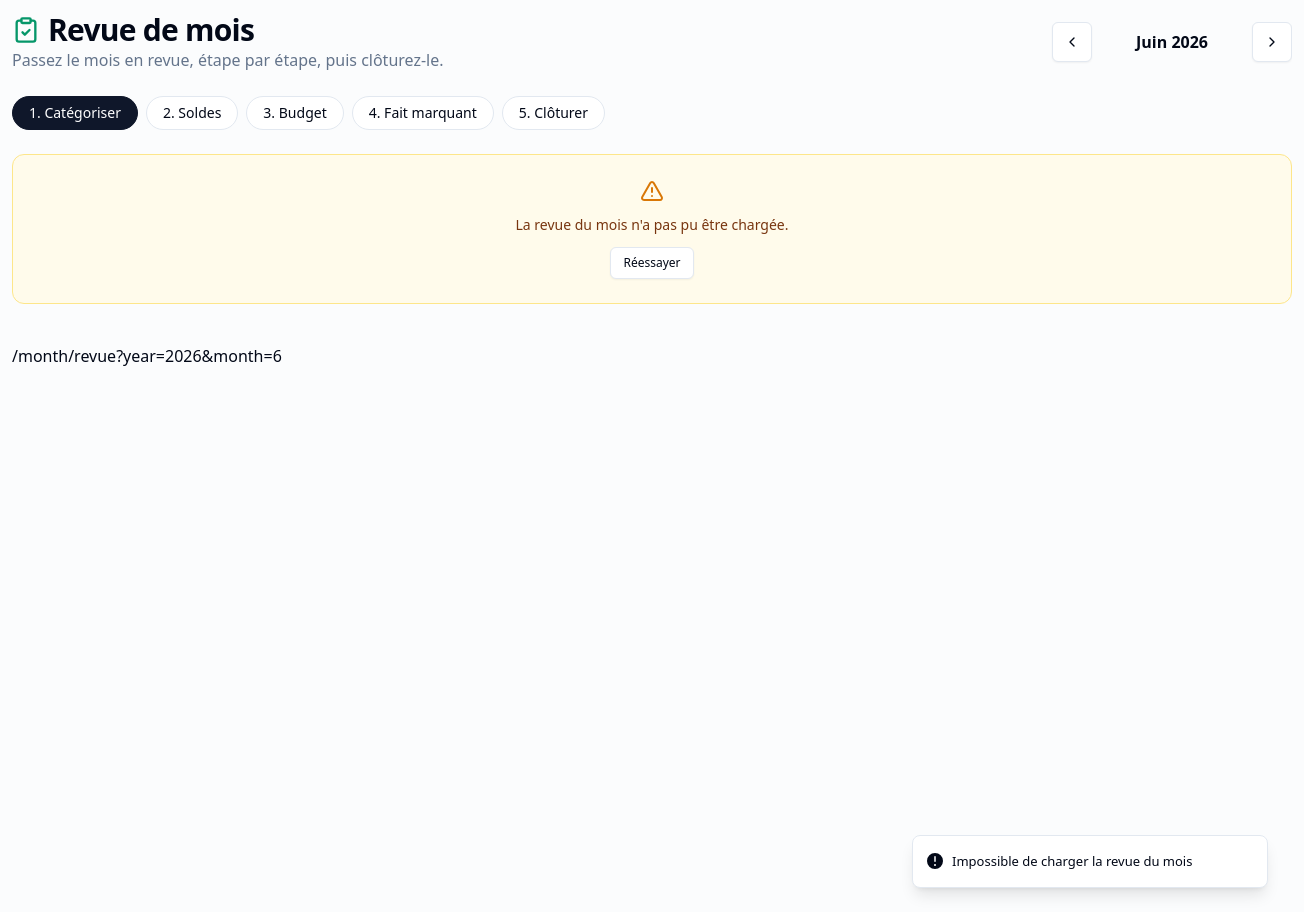
Test case: MonthReview : chargement › échec : ErrorState (pas un mois vide) et « Réessayer » recharge
Check: the text "La revue du mois n'a pas pu être chargée." is shown, box [516,215,788,235]
Check: the text "Impossible de charger la revue du mois" is shown, box [952,852,1192,871]
Click the button "Réessayer" at coordinates (652, 263), box [610,247,694,279]
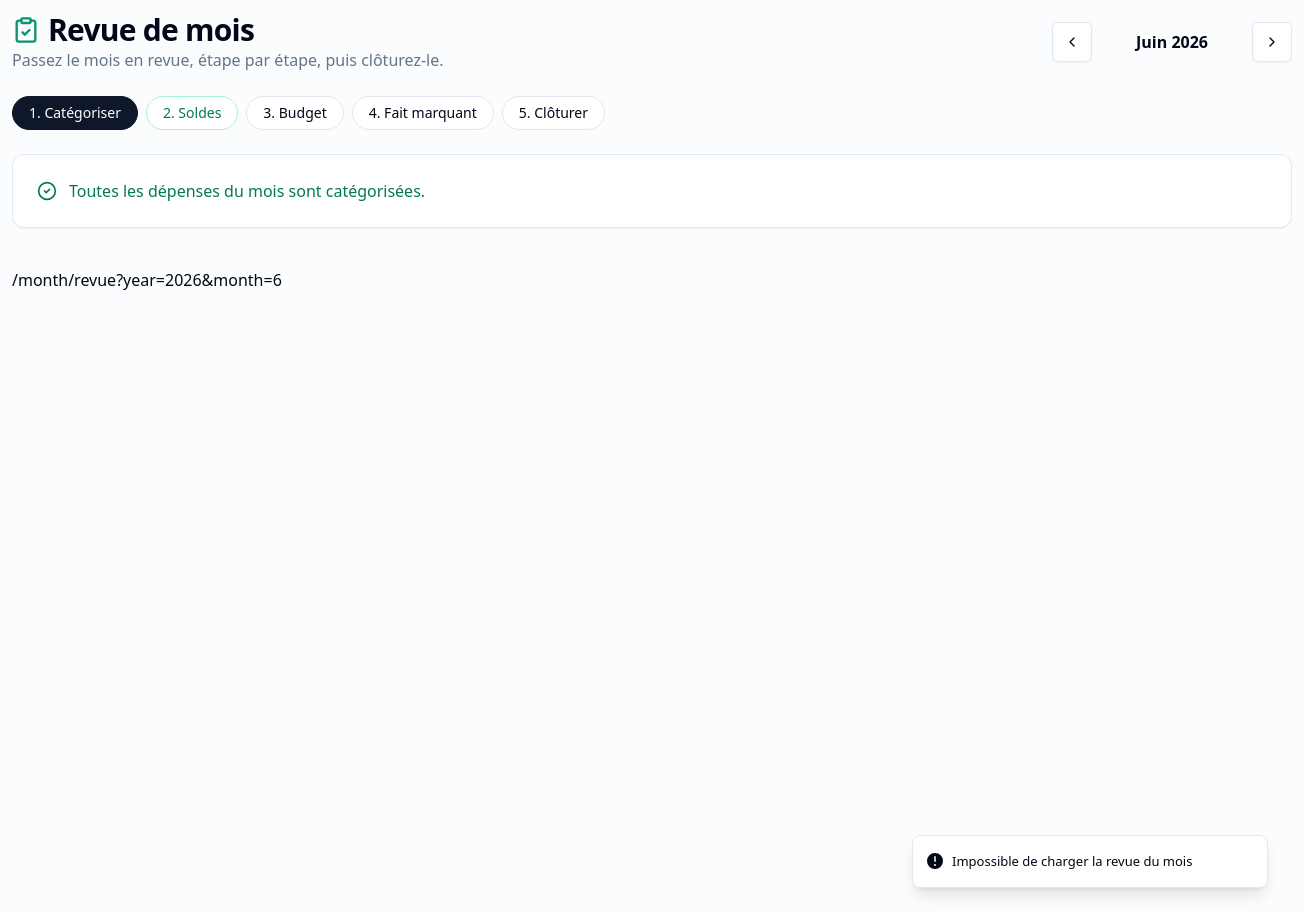
Check: the text "La revue du mois n'a pas pu être chargée." is gone
